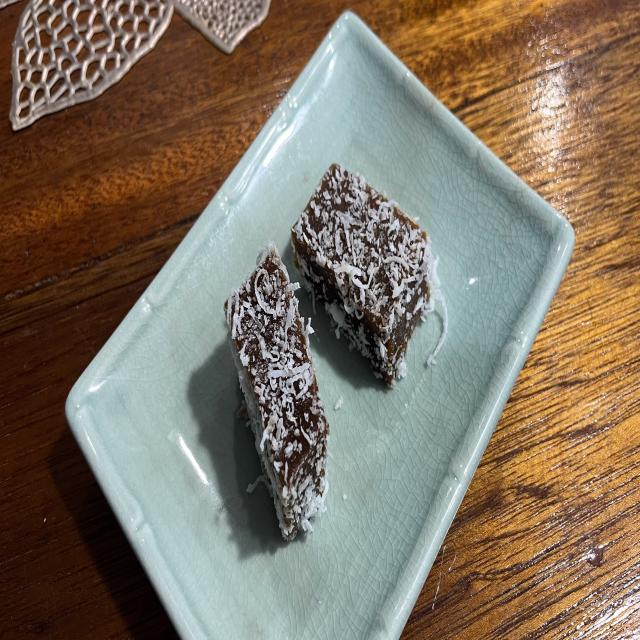kaswi: (291, 164, 448, 387), (225, 242, 329, 540)
